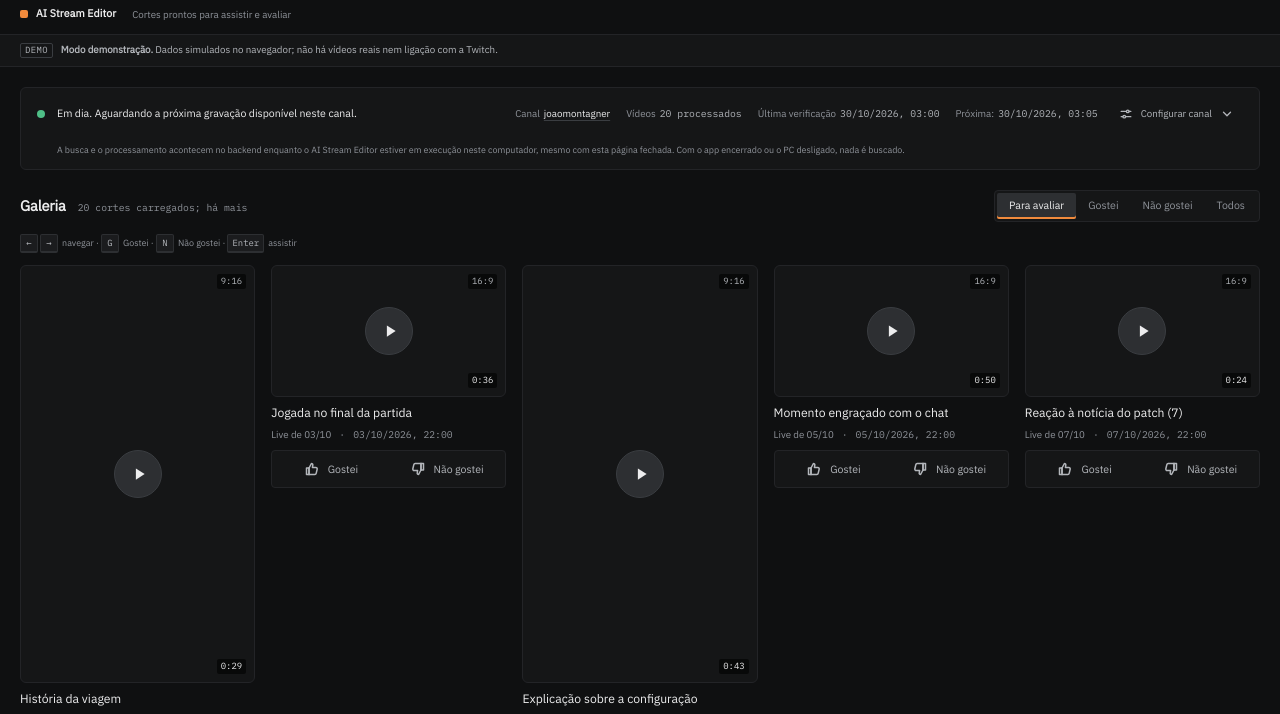
Test: Galeria: cortes e avaliação › carrega por páginas com "Carregar mais", repassando o cursor
Click the radio button labelled "Todos" at (1231, 206), box [1205,193,1257,219]
(page scrolled)
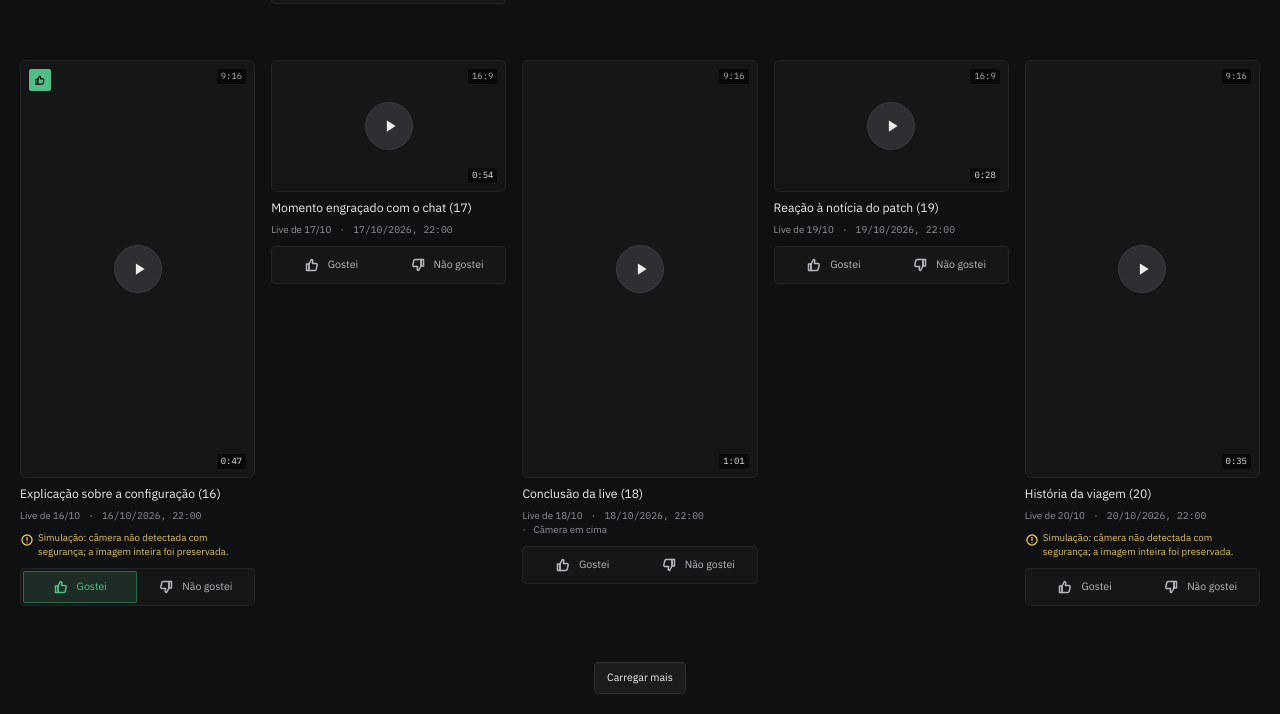
Click the button "Carregar mais" at (640, 678), box [594,662,686,694]
(page scrolled)
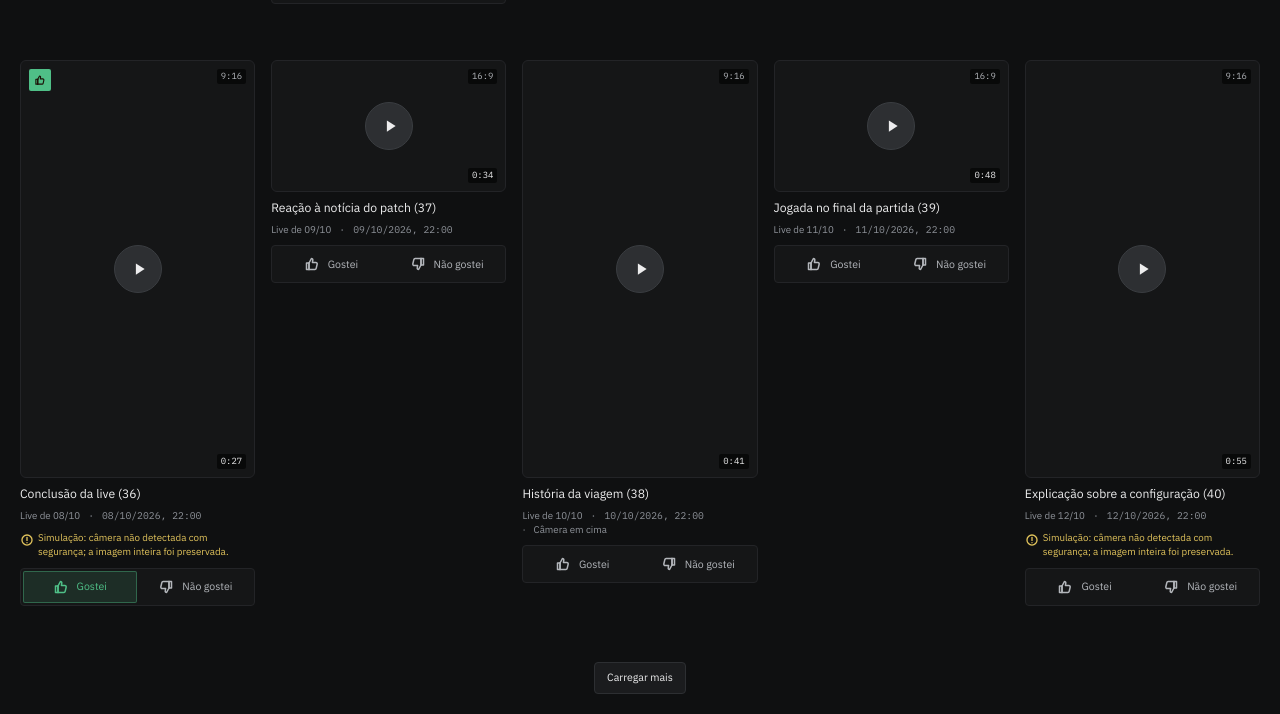
Click the button "Carregar mais" at (640, 678), box [594,662,686,694]
(page scrolled)
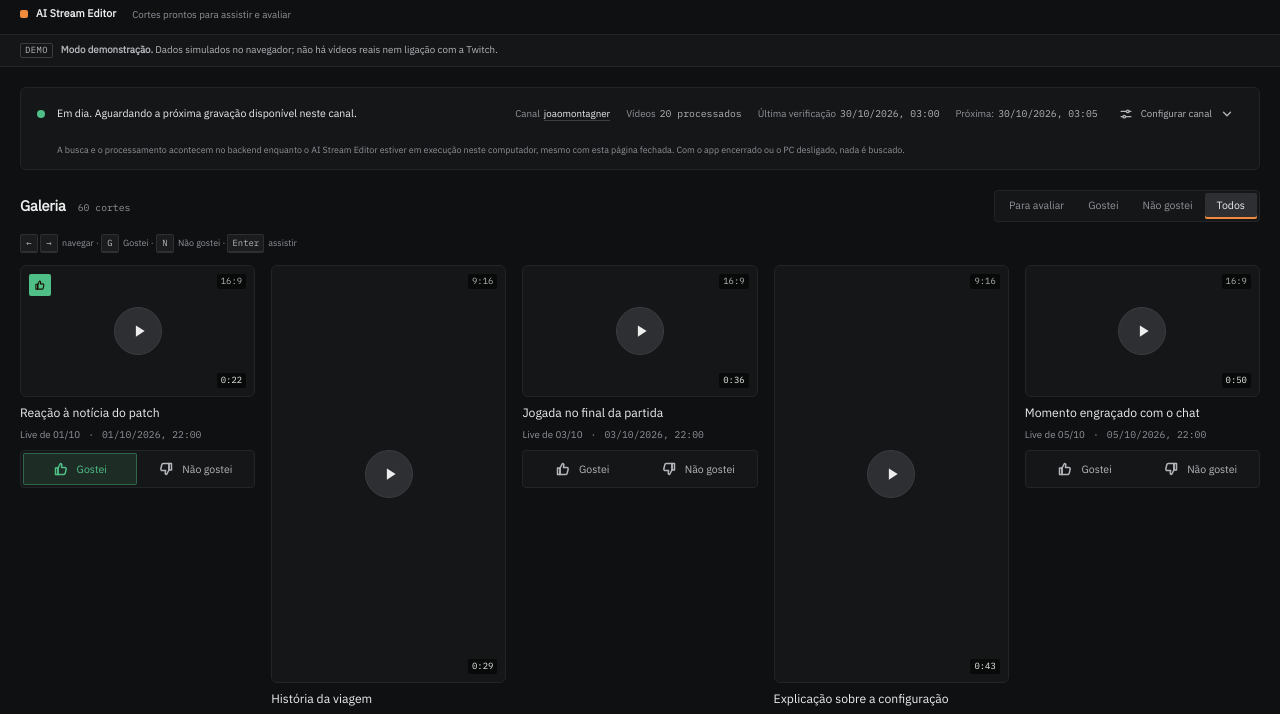
Check: the button "Carregar mais" is gone
Check: the text "60 cortes" is shown, box [78,201,130,215]
